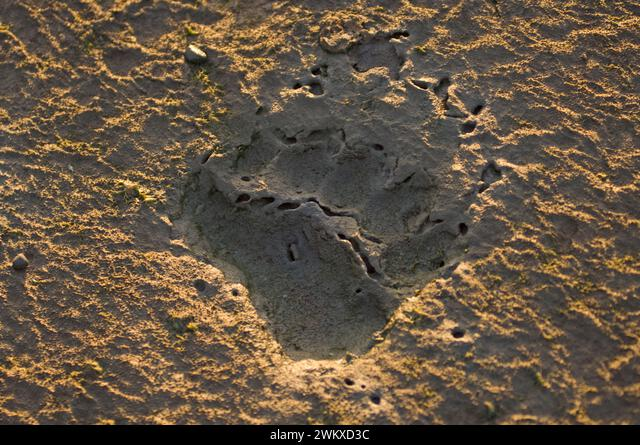bear: (183, 22, 486, 372)
